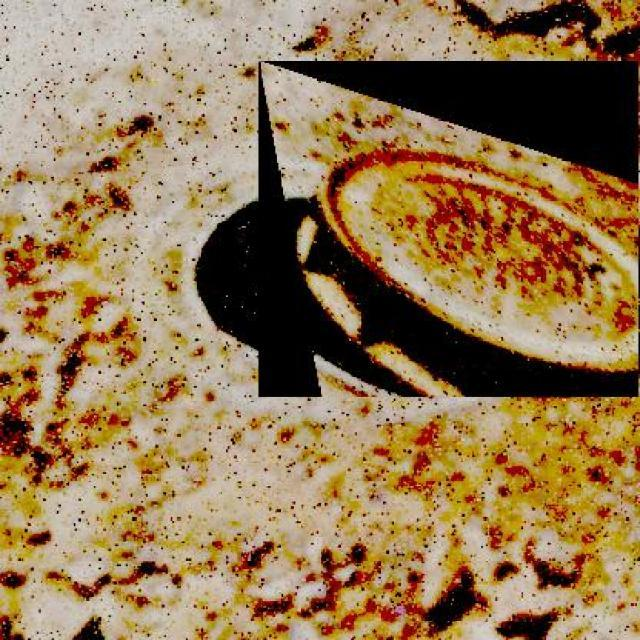Manhole: (258, 60, 638, 397)
